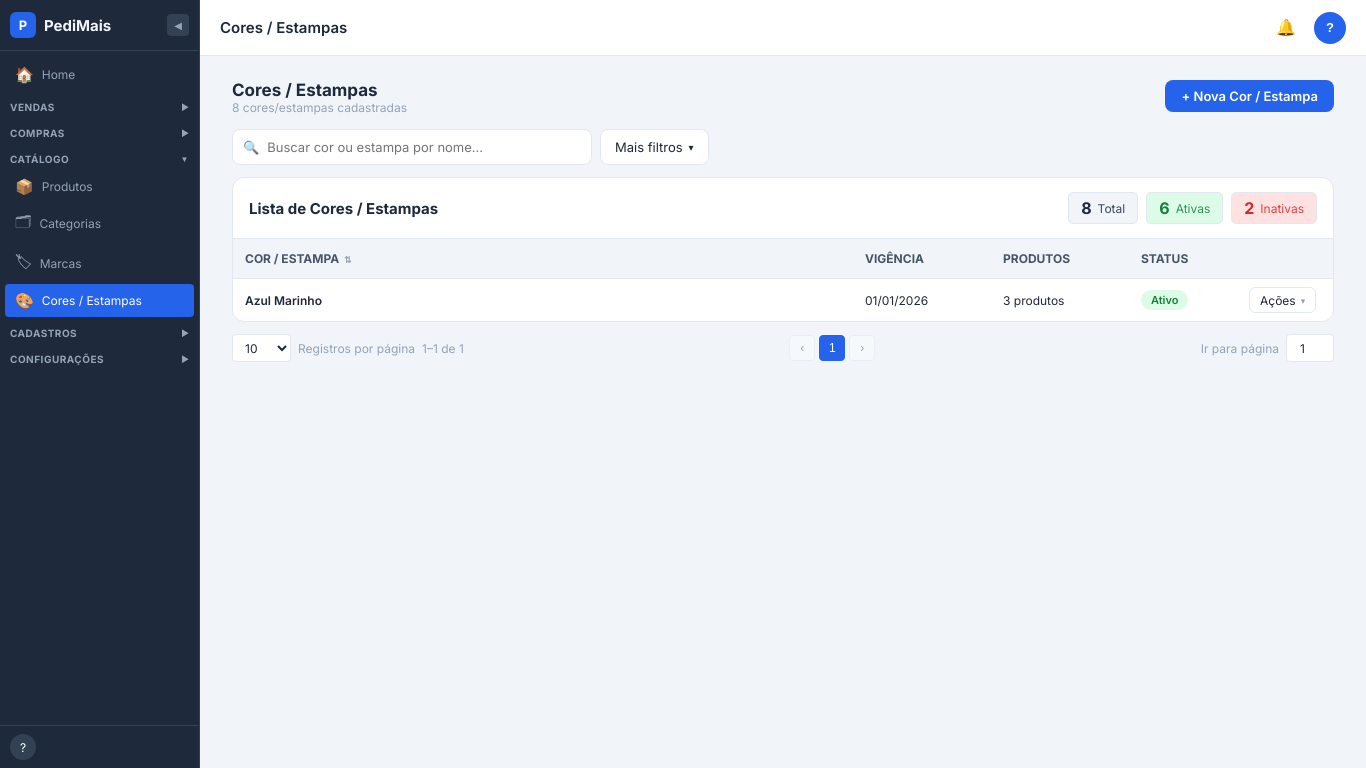
it: ColorwaysListView › shows the backend message when deletion is blocked because the cor/estampa is in use
This screenshot has width=1366, height=768.
Click the element with test id "btn-acoes" at (1283, 300), box [1249, 287, 1316, 313]
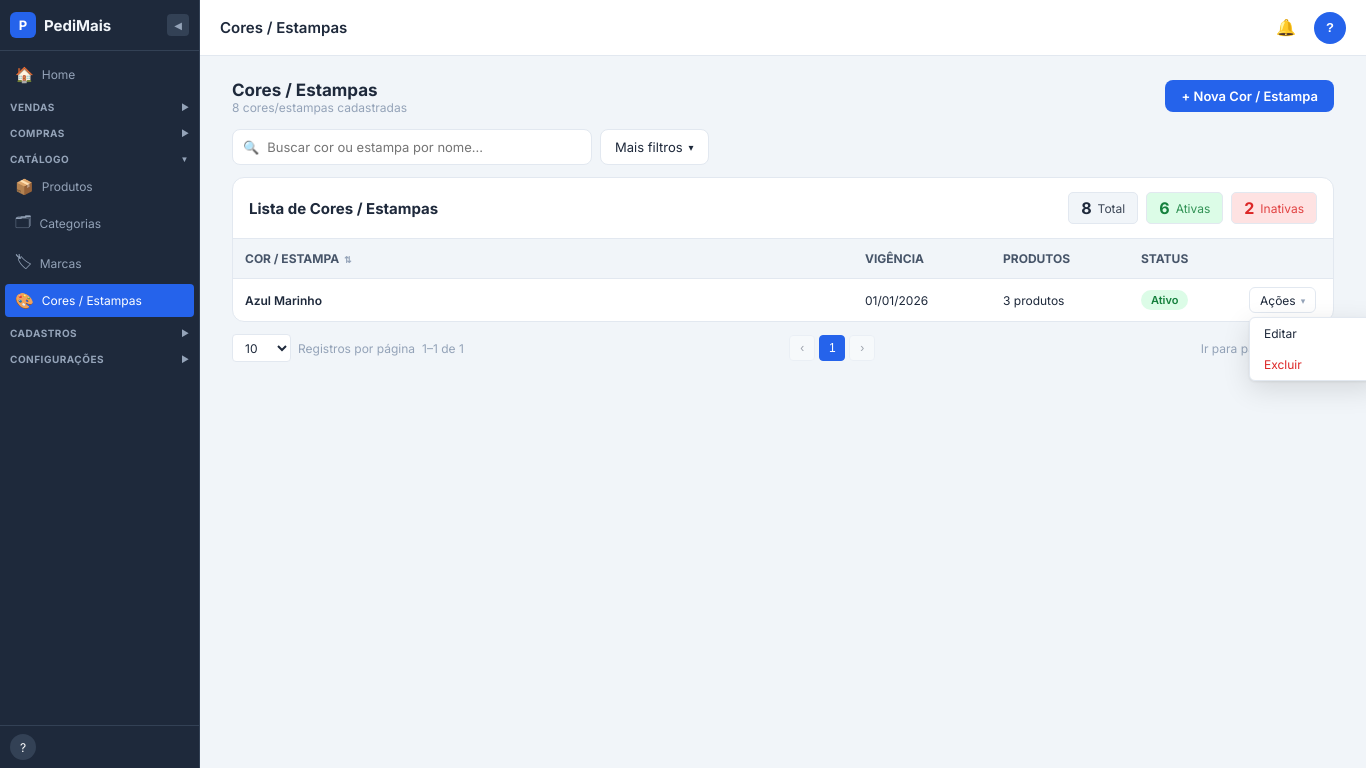
Click the text with test id "acao-excluir" at (1283, 364), box [1264, 357, 1302, 372]
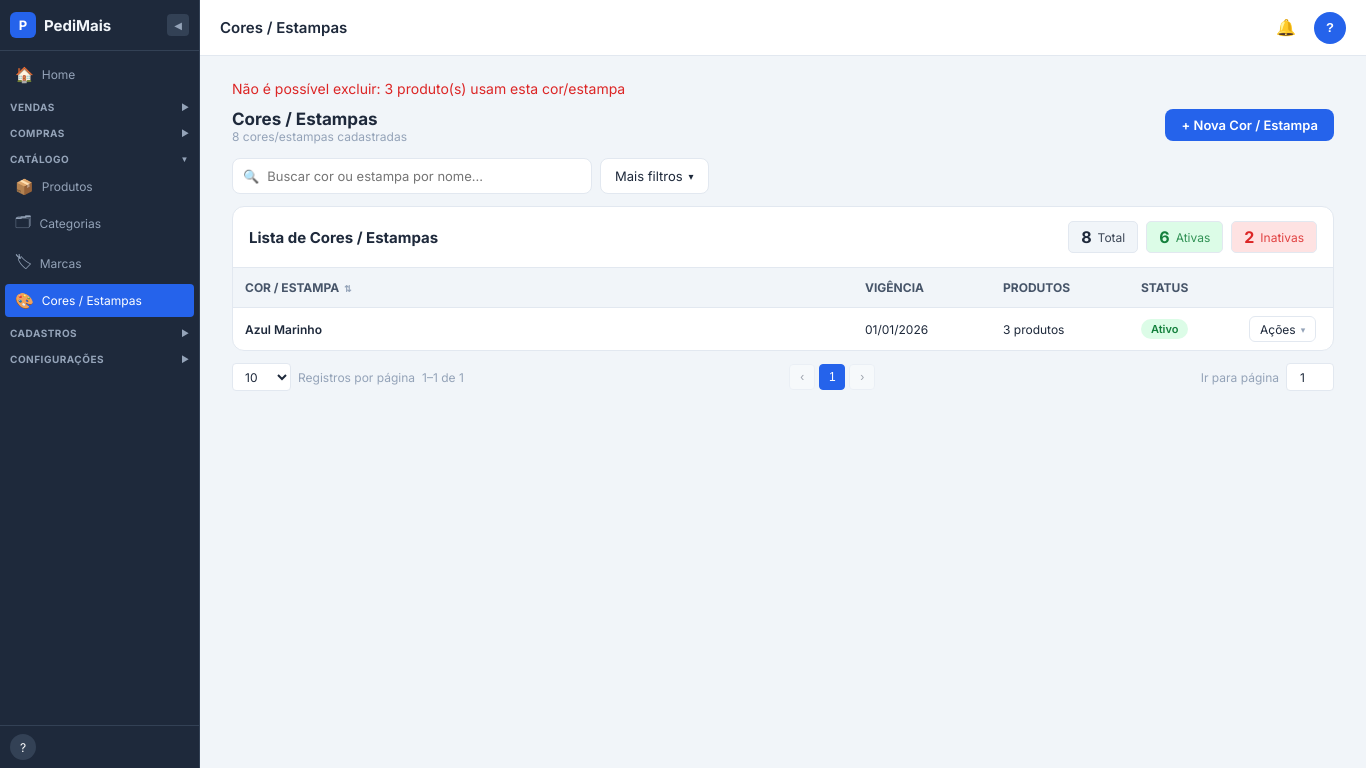
Expected: the text "Não é possível excluir: 3 produto(s) usam esta cor/estampa" is shown, [232, 80, 625, 97]
